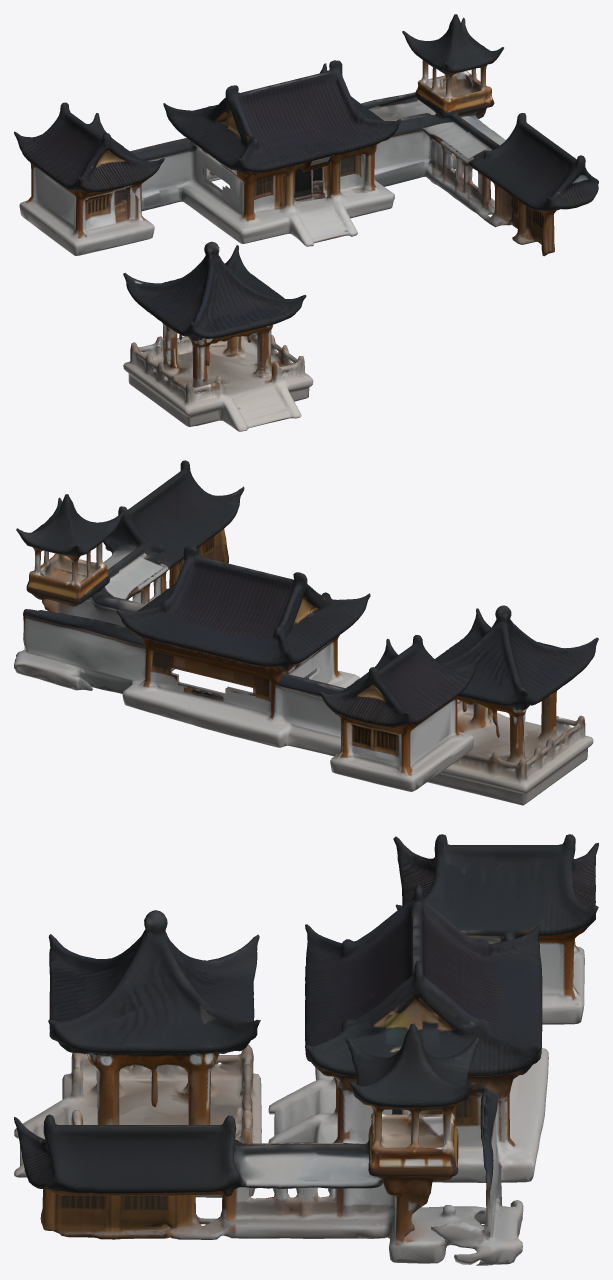
The picture shows the model from 3 angles, top to bottom: view 1: azimuth 30°, elevation 25°; view 2: azimuth 150°, elevation 25°; view 3: azimuth 270°, elevation 25°; orthographic projection. The views are drawn at different scales.
Visible parts, largest first — view 1: material.001; view 2: material.001; view 3: material.001.
Boxes of the visible parts, <box> form: material.001: <box>14,14,598,431</box>; material.001: <box>14,460,598,805</box>; material.001: <box>14,834,598,1265</box>.
Bounding box in the file's own units: 0.925 × 0.5142 × 0.7402.
Materials: 1 (1 with a texture image).
